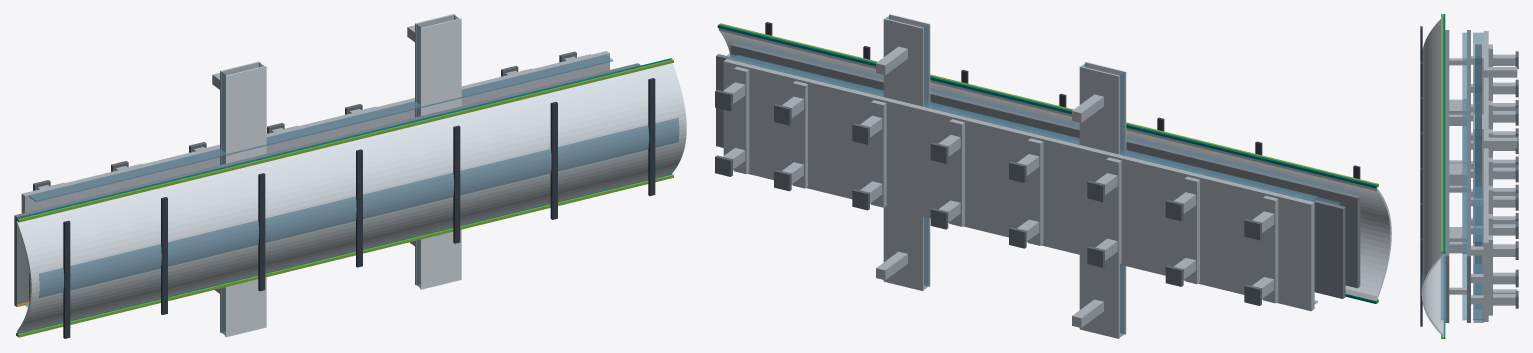
Rendered from siam.glb.
3 views of the same model, side by side, from view 1: azimuth 30°, elevation 25°; view 2: azimuth 150°, elevation 25°; view 3: azimuth 270°, elevation 25° (orthographic). The views are drawn at different scales.
Visible parts, largest first — view 1: BarrelVaultRoof, CentralSkylightRibbon, ConcourseSlab, RoofCanopy, SkywalkCanopy_30, SkywalkCanopy_-20, ConcourseGlazing_North, LowerPlatformDeck, Fascia_BtsGreen_North, Fascia_BtsGreen_South, ConcourseAndSkywalks, Fascia_BtsTeal_North (+5 smaller); view 2: ConcourseSlab, BarrelVaultRoof, UpperPlatformDeck, SkywalkFloor_30, PortalColumnsAndBents, SkywalkFloor_-20, LowerPlatformDeck, ConcourseAndSkywalks, ConcourseGlazing_North, Fascia_BtsTeal_North, UpperScreenDoors_North, LowerScreenDoors_North (+12 smaller); view 3: BarrelVaultRoof, ConcourseAndSkywalks, PortalColumnsAndBents, ConcourseSlab, UpperPlatformDeck, ConcourseGlazing_North, LowerPlatformDeck, LowerScreenDoors_North, RoofCanopy, LowerPlatformLevel, Fascia_BtsTeal_North, LowerScreenDoors_South (+33 smaller).
Boxes of the visible parts, x1=… form: BarrelVaultRoof: x1=16, y1=63, x2=686, y2=333; CentralSkylightRibbon: x1=39, y1=118, x2=679, y2=298; ConcourseSlab: x1=21, y1=51, x2=609, y2=213; RoofCanopy: x1=63, y1=78, x2=655, y2=338; SkywalkCanopy_30: x1=420, y1=18, x2=461, y2=289; SkywalkCanopy_-20: x1=225, y1=66, x2=266, y2=337; ConcourseGlazing_North: x1=29, y1=55, x2=613, y2=201; LowerPlatformDeck: x1=14, y1=63, x2=640, y2=306; Fascia_BtsGreen_North: x1=17, y1=59, x2=673, y2=222; Fascia_BtsGreen_South: x1=17, y1=174, x2=673, y2=337; ConcourseAndSkywalks: x1=212, y1=15, x2=459, y2=334; Fascia_BtsTeal_North: x1=16, y1=58, x2=671, y2=221; ConcourseSlab: x1=723, y1=59, x2=1314, y2=311; BarrelVaultRoof: x1=718, y1=28, x2=1391, y2=301; UpperPlatformDeck: x1=730, y1=43, x2=1360, y2=288; SkywalkFloor_30: x1=883, y1=18, x2=923, y2=290; PortalColumnsAndBents: x1=715, y1=89, x2=1261, y2=305; SkywalkFloor_-20: x1=1079, y1=66, x2=1119, y2=338; LowerPlatformDeck: x1=716, y1=54, x2=1345, y2=298; ConcourseAndSkywalks: x1=876, y1=15, x2=1124, y2=337; ConcourseGlazing_North: x1=731, y1=55, x2=1317, y2=201; Fascia_BtsTeal_North: x1=717, y1=24, x2=1377, y2=188; UpperScreenDoors_North: x1=742, y1=43, x2=1355, y2=194; LowerScreenDoors_North: x1=727, y1=54, x2=1340, y2=204; BarrelVaultRoof: x1=1421, y1=17, x2=1444, y2=336; ConcourseAndSkywalks: x1=1474, y1=44, x2=1517, y2=322; PortalColumnsAndBents: x1=1471, y1=51, x2=1518, y2=308; ConcourseSlab: x1=1483, y1=31, x2=1488, y2=321; UpperPlatformDeck: x1=1445, y1=30, x2=1449, y2=322; ConcourseGlazing_North: x1=1473, y1=32, x2=1483, y2=242; LowerPlatformDeck: x1=1467, y1=30, x2=1470, y2=322; LowerScreenDoors_North: x1=1462, y1=32, x2=1466, y2=253; RoofCanopy: x1=1420, y1=26, x2=1422, y2=326; LowerPlatformLevel: x1=1449, y1=58, x2=1466, y2=294; Fascia_BtsTeal_North: x1=1443, y1=14, x2=1445, y2=253; LowerScreenDoors_South: x1=1462, y1=99, x2=1466, y2=320.
Bounding box in the file's own units: 168 × 64 × 29.3.
